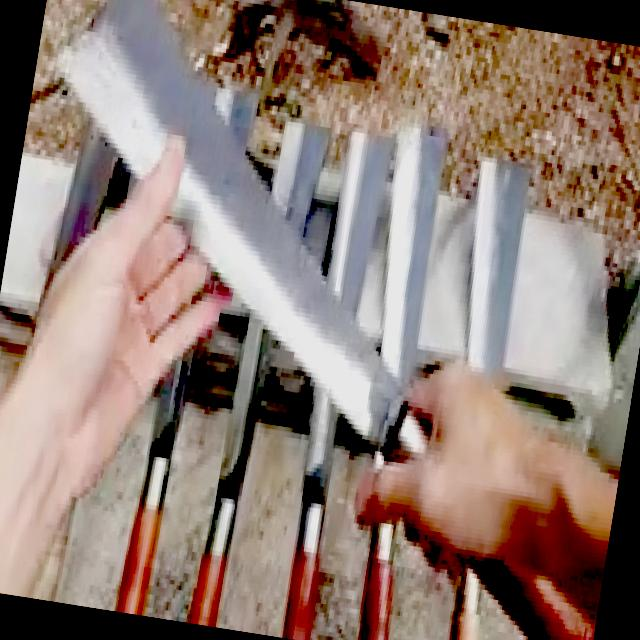eto: (51, 0, 596, 640)
